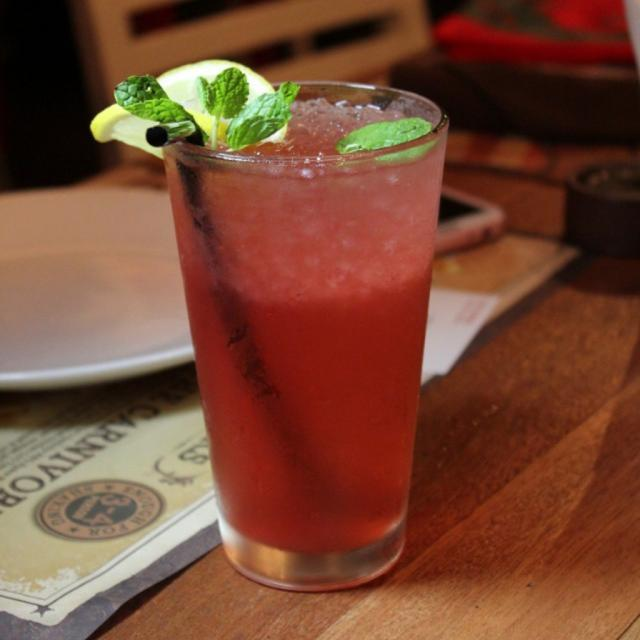Juice: (163, 95, 444, 555)
